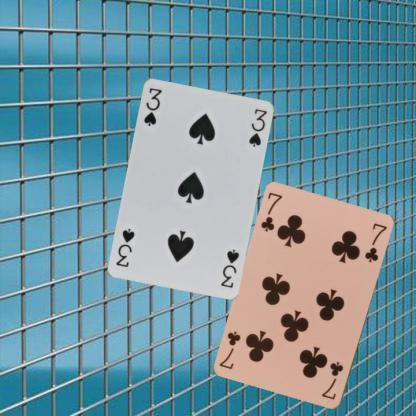3s: (218, 246, 240, 289), (141, 85, 163, 127)
7c: (319, 358, 345, 402), (258, 190, 284, 234)
